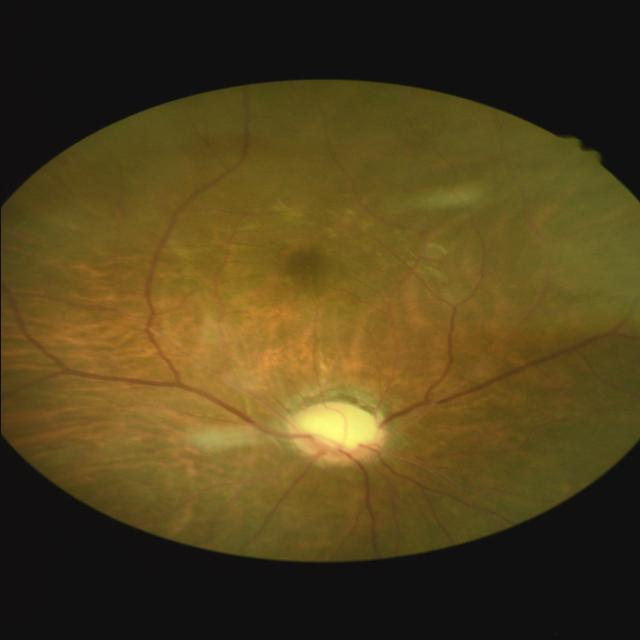cup: (297, 412, 381, 454)
disk: (287, 404, 390, 466)
